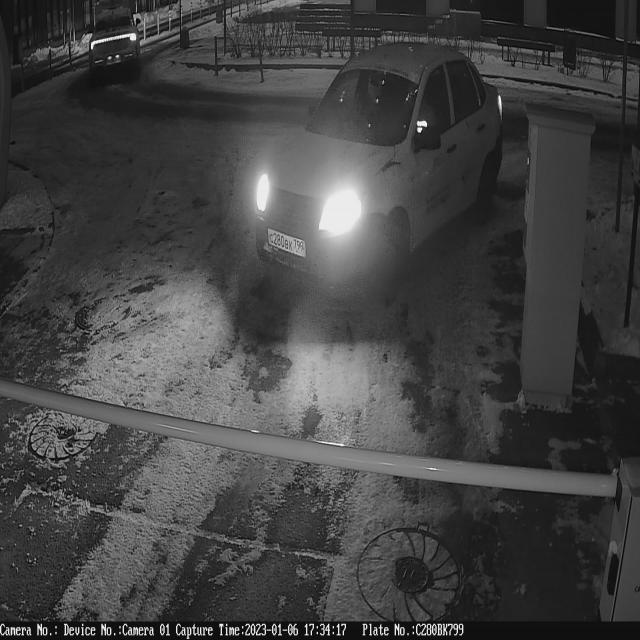car-plate-numbers: (266, 220, 308, 260)
